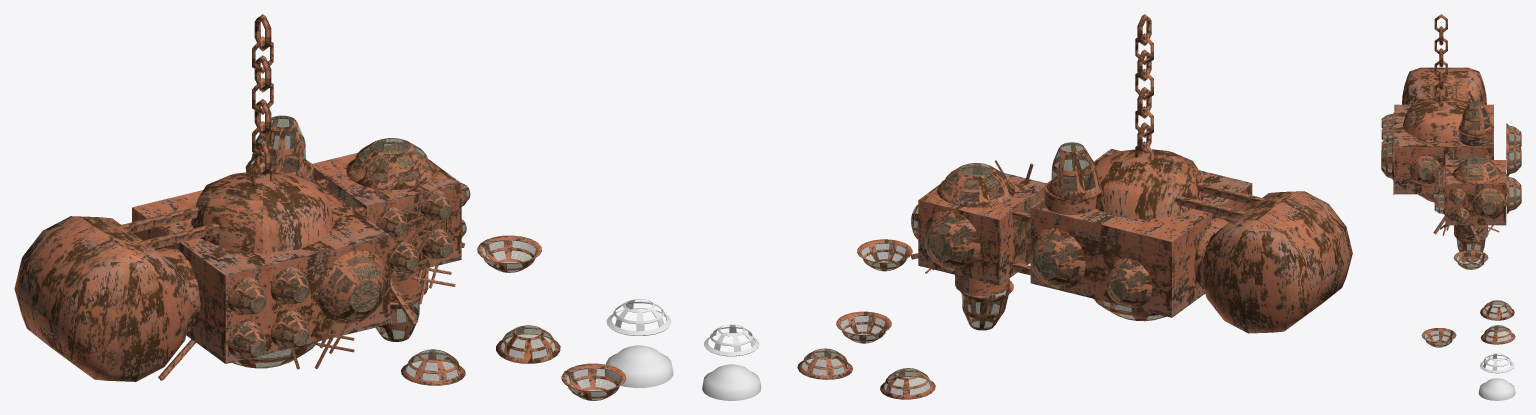
File: Station.FBX
The picture shows the model from 3 angles, left to right: view 1: azimuth 30°, elevation 25°; view 2: azimuth 150°, elevation 25°; view 3: azimuth 270°, elevation 25°; orthographic projection. The views are drawn at different scales.
Parts seen in each view (by area): view 1: OilTank003, Box001, OilTank001, Box002, Window017, Window013, Torus001, Window024, Sphere001, Window002, Window001, Window (+17 smaller); view 2: OilTank003, Box001, Box002, OilTank001, Window026, Window025, Window013, Window024, Torus001, Window027, Sphere001, Window004 (+13 smaller); view 3: Box001, Box002, OilTank003, OilTank001, Window013, Window024, Window014, Torus001, Window023, Sphere001, Window, Window002 (+17 smaller).
Part boxes in pixels (bbox=[...]): OilTank003: bbox=[14, 216, 192, 381]; Box001: bbox=[132, 180, 390, 363]; OilTank001: bbox=[191, 171, 334, 253]; Box002: bbox=[312, 144, 461, 276]; Window017: bbox=[318, 250, 388, 325]; Window013: bbox=[346, 138, 437, 190]; Torus001: bbox=[252, 14, 273, 185]; Window024: bbox=[245, 115, 310, 178]; Sphere001: bbox=[604, 345, 673, 387]; Window002: bbox=[477, 235, 541, 272]; Window001: bbox=[561, 363, 626, 400]; Window: bbox=[401, 349, 465, 385]; OilTank003: bbox=[1200, 191, 1352, 333]; Box001: bbox=[1030, 149, 1252, 317]; Box002: bbox=[918, 164, 1046, 285]; OilTank001: bbox=[1084, 149, 1205, 219]; Window026: bbox=[1029, 228, 1085, 288]; Window025: bbox=[924, 210, 980, 271]; Window013: bbox=[937, 163, 1015, 207]; Window024: bbox=[1048, 142, 1101, 200]; Torus001: bbox=[1135, 14, 1153, 161]; Window027: bbox=[1105, 258, 1152, 307]; Sphere001: bbox=[702, 364, 761, 400]; Window004: bbox=[961, 280, 1013, 330]; Box001: bbox=[1394, 104, 1493, 194]; Box002: bbox=[1445, 160, 1506, 225]; OilTank003: bbox=[1402, 67, 1486, 104]; OilTank001: bbox=[1403, 98, 1478, 141]; Window013: bbox=[1453, 156, 1501, 184]; Window024: bbox=[1458, 101, 1492, 135]; Window014: bbox=[1472, 188, 1506, 219]; Torus001: bbox=[1434, 14, 1447, 106]; Window023: bbox=[1409, 155, 1441, 184]; Sphere001: bbox=[1478, 378, 1515, 400]; Window: bbox=[1480, 300, 1514, 320]; Window002: bbox=[1453, 250, 1488, 269].
Bounding box in the file's own units: 929 × 658 × 313.
